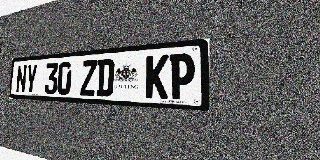0: (57, 62, 72, 95)
3: (44, 63, 58, 95)
D: (96, 58, 115, 97)
K: (145, 54, 169, 99)
N: (16, 65, 27, 93)
P: (169, 53, 195, 100)
Y: (25, 64, 38, 94)
Z: (80, 60, 97, 96)
